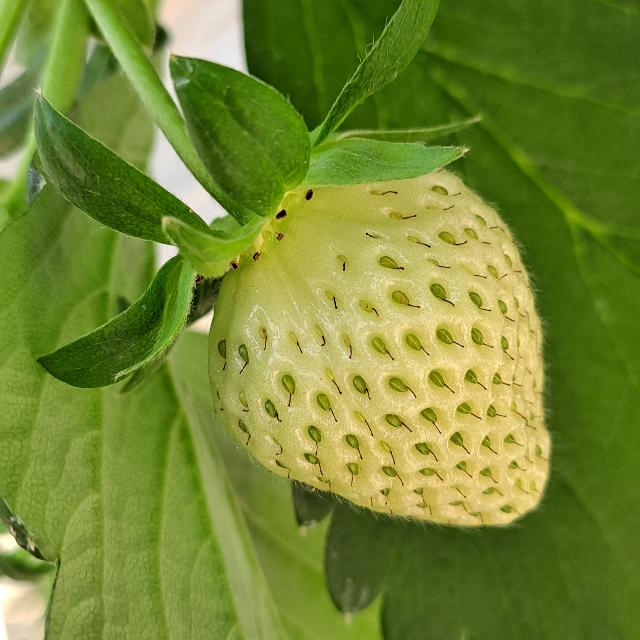Health_25: (208, 168, 550, 526)
